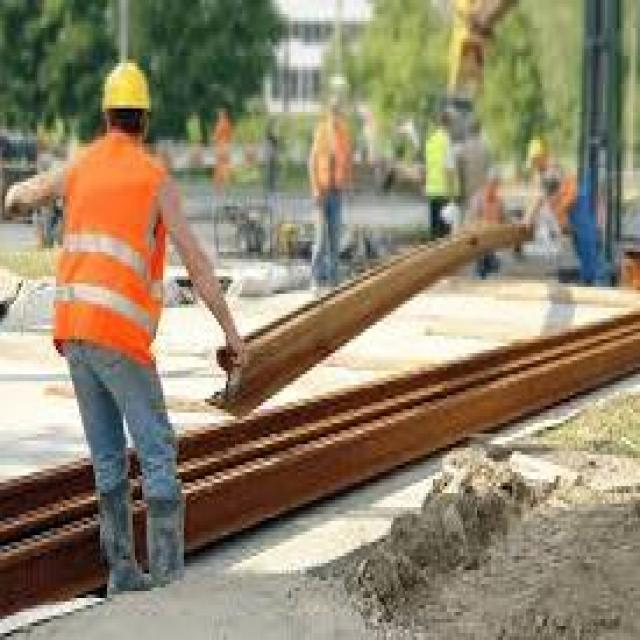Reflective-Jacket: (42, 136, 177, 378)
Safety-Helmet: (90, 52, 160, 130)
